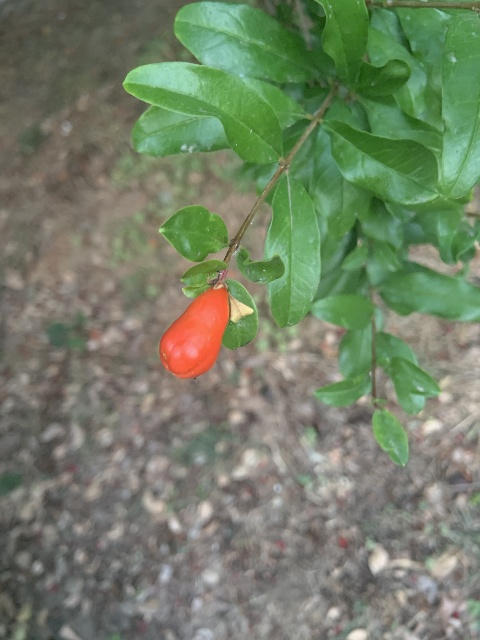bud: (159, 285, 228, 380)
